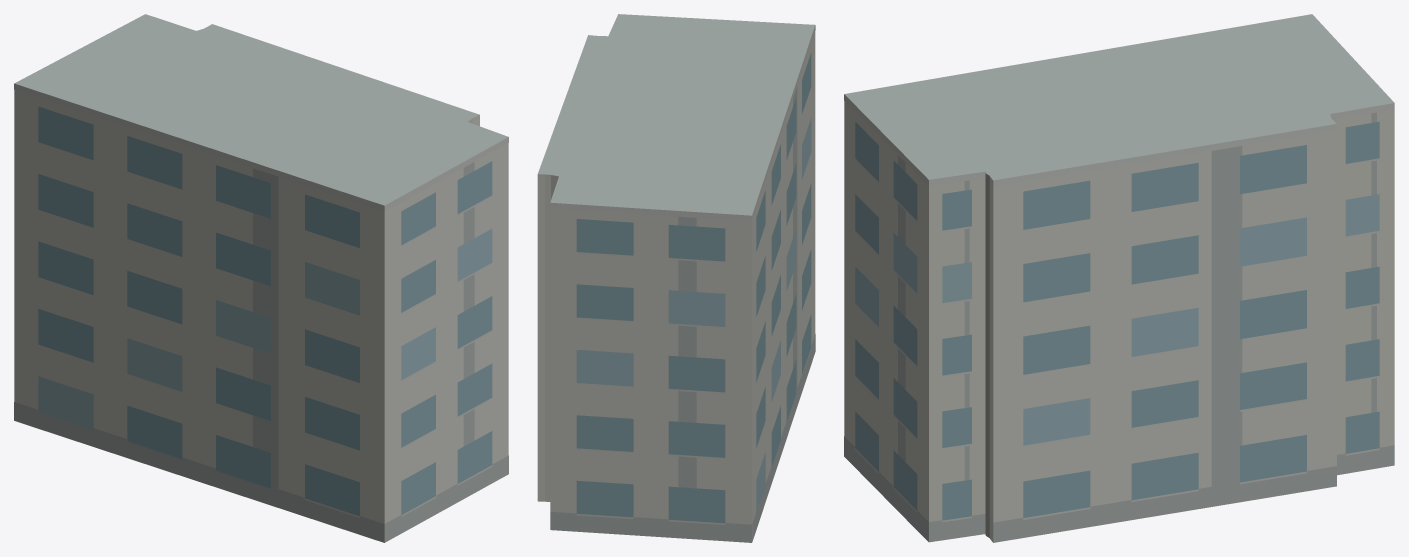
The model's file is survey-upis-32930317.glb.
3 views of the same model, side by side, from view 1: azimuth 30°, elevation 25°; view 2: azimuth 150°, elevation 25°; view 3: azimuth 270°, elevation 25° (orthographic). The views are drawn at different scales.
Visible parts, largest first — view 1: survey-upis-32930317.tmp; view 2: survey-upis-32930317.tmp; view 3: survey-upis-32930317.tmp.
Boxes of the visible parts, <box> form: survey-upis-32930317.tmp: <box>14,14,508,542</box>; survey-upis-32930317.tmp: <box>537,14,815,542</box>; survey-upis-32930317.tmp: <box>844,14,1394,542</box>.
Size of the model in its own units: 13.45 by 13.65 by 18.8.
